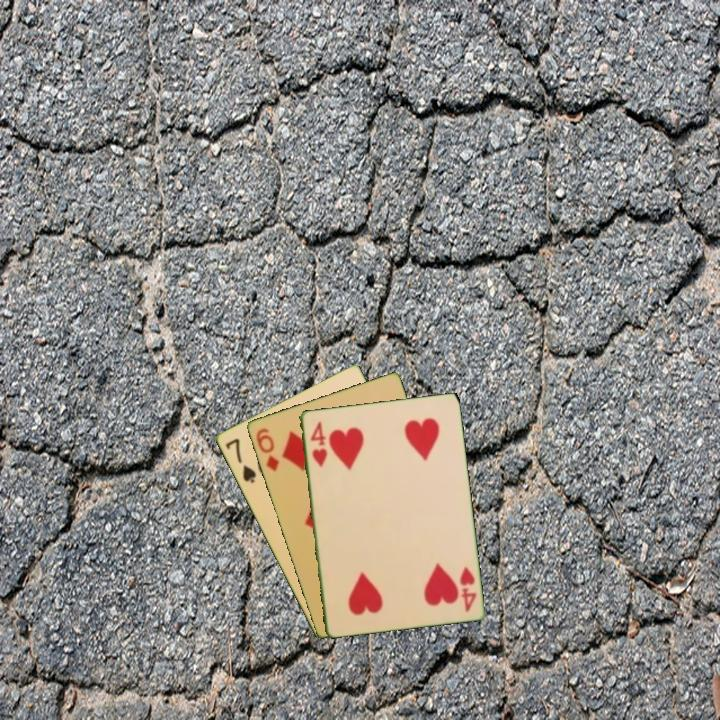4h: (456, 563, 479, 614), (307, 417, 329, 470)
6d: (252, 424, 281, 474)
7s: (221, 435, 259, 486)
